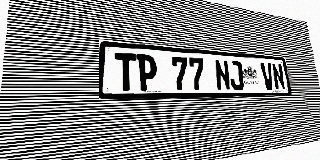7: (170, 56, 190, 91), (188, 58, 206, 90)
J: (228, 60, 245, 90)
N: (214, 59, 231, 90), (271, 63, 286, 90)
P: (137, 54, 158, 91)
T: (115, 52, 137, 91)
V: (260, 62, 275, 90)
